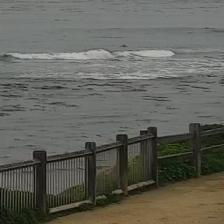surfer: (120, 44, 128, 47)
